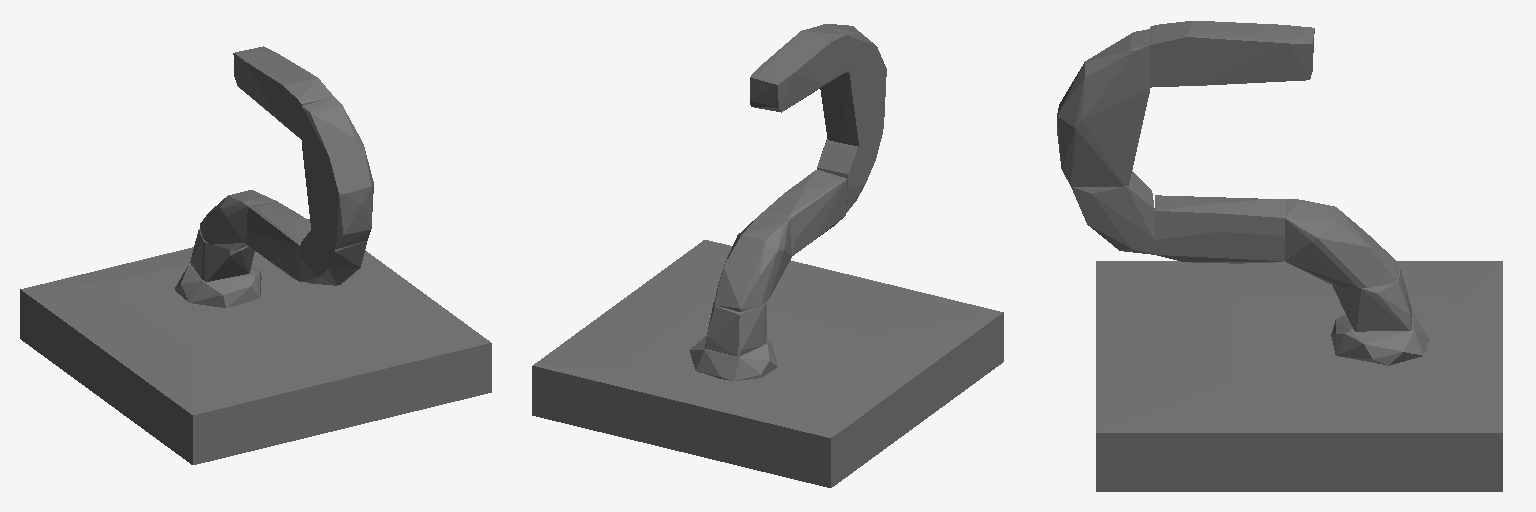
robot.urdf — base.urdf:
<?xml version='1.0' encoding='utf-8'?>
<robot name="base.urdf">
  <link name="baseLink">
    <contact>
      <lateral_friction value="0.5" />
      <rolling_friction value="0.0" />
      <contact_cfm value="0.0" />
      <contact_erp value="1.0" />
    </contact>
    <inertial>
      <origin rpy="0 0 0" xyz="1.4596332241859356e-06 -0.0038529738777456964 0.019527933790915827" />
       <mass value="0.0" />
       <inertia ixx="1e-3" ixy="0" ixz="0" iyy="1e-3" iyz="0" izz="1e-3" />
    </inertial>
    <visual>
      <origin rpy="0 0 0" xyz="0 0 0" />
      <geometry>
        <mesh filename="base.obj" scale="0.5 0.5 0.5" />
      </geometry>
       <material name="gray">
        <color rgba="0.5 0.5 0.5 1" />
      </material>
    </visual>
    <collision>
      <geometry>
        <mesh filename="base.obj" scale="0.5 0.5 0.5" />
      </geometry>
    </collision>
  </link>
</robot>

--- Render facts (derived) ---
3 views of the same robot in one strip: view 1: azimuth 30°, elevation 25°; view 2: azimuth 150°, elevation 25°; view 3: azimuth 270°, elevation 25° (orthographic).
Model base.urdf with 1 links and 0 joints (none), rooted at baseLink, posed every joint at zero.
Links seen in each view (by area): view 1: baseLink; view 2: baseLink; view 3: baseLink.
Boxes of the visible links, x1,y1,x2,y2 form: baseLink: [20, 46, 491, 464]; baseLink: [532, 24, 1003, 487]; baseLink: [1057, 21, 1502, 491].
Size in the robot's own frame: 0.0458 by 0.0503 by 0.0469 metres.
Meshes: 1 distinct files referenced, 1 mesh visuals loaded (1 OBJ).